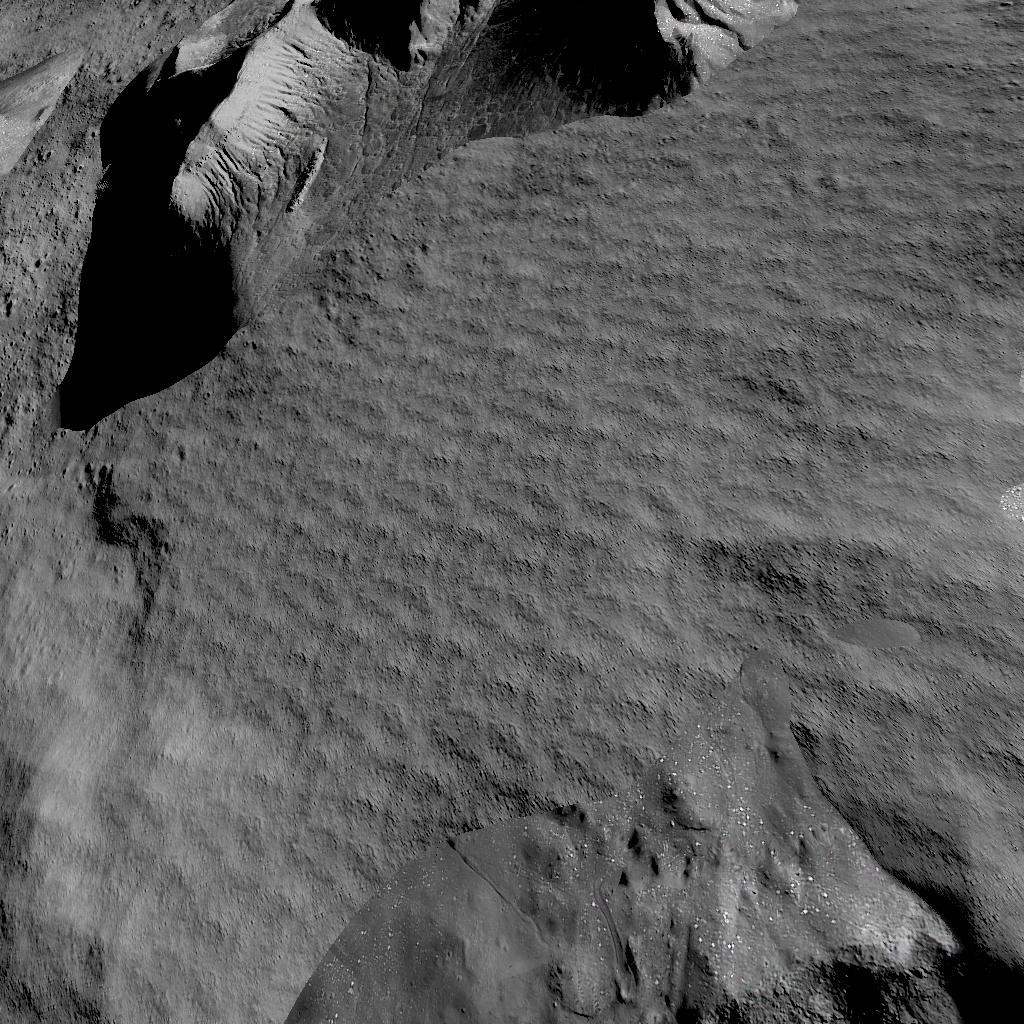Boulders: (56, 0, 803, 433)
Crater: (293, 820, 1024, 1024)
Plan surface: (0, 445, 1024, 810), (818, 0, 1024, 430), (0, 820, 281, 1024)
